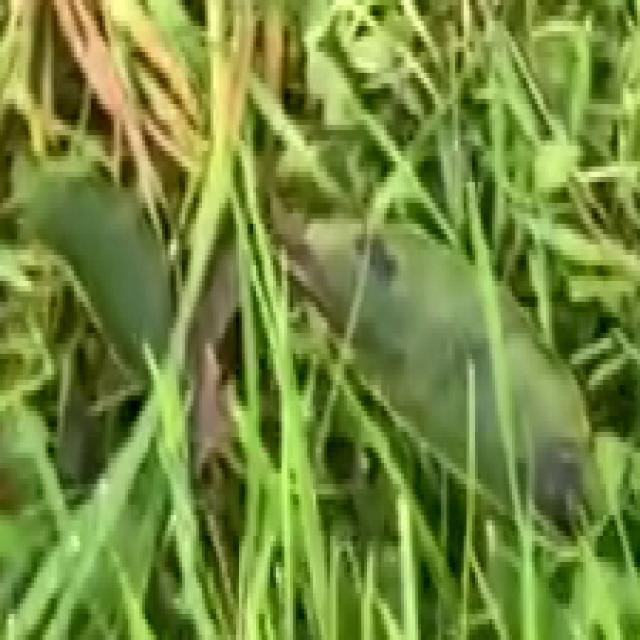organic waste: (9, 68, 598, 541)
